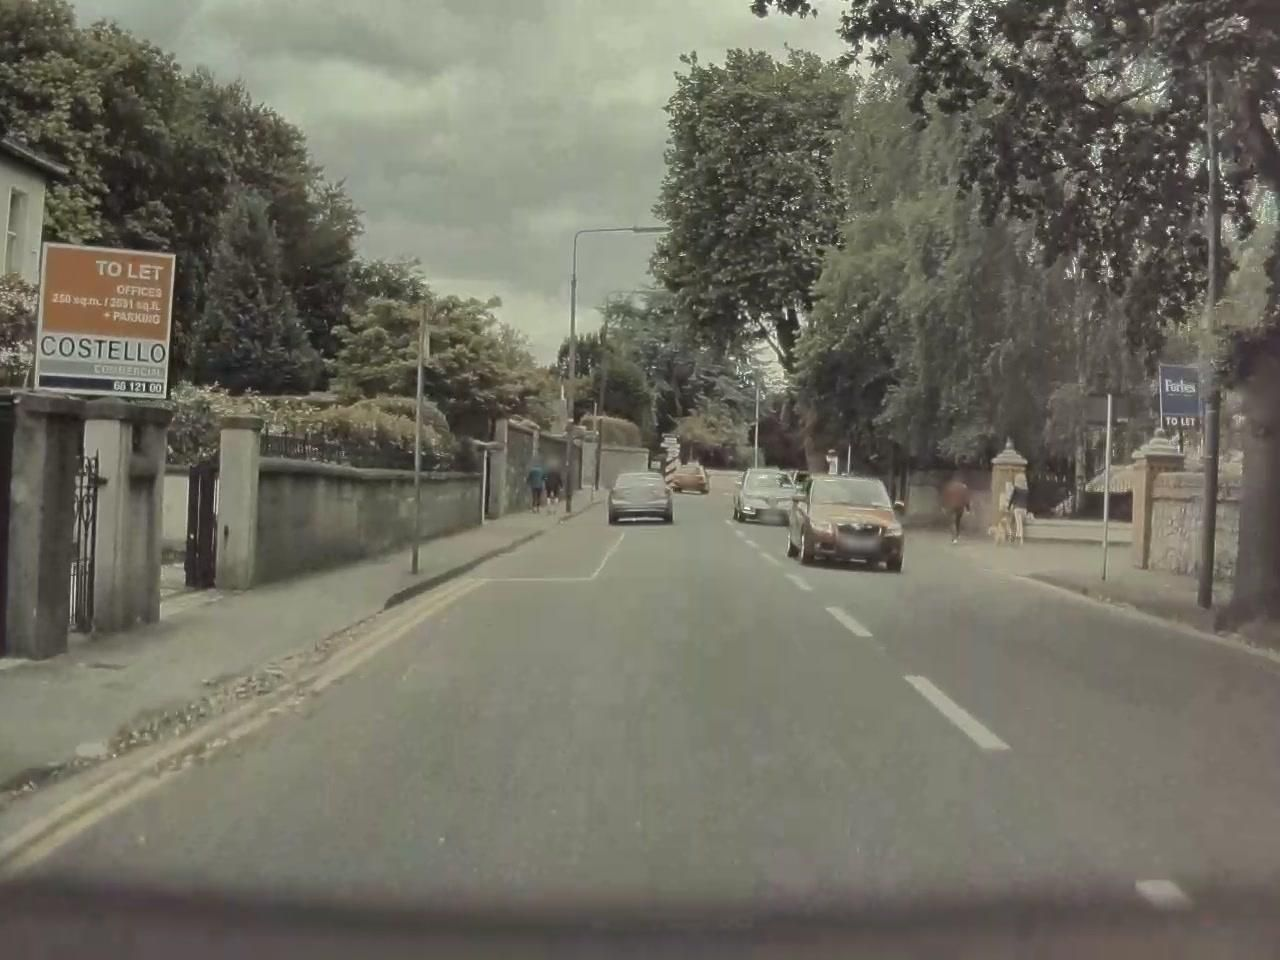property sign: (27, 222, 182, 404), (1149, 361, 1204, 437)
